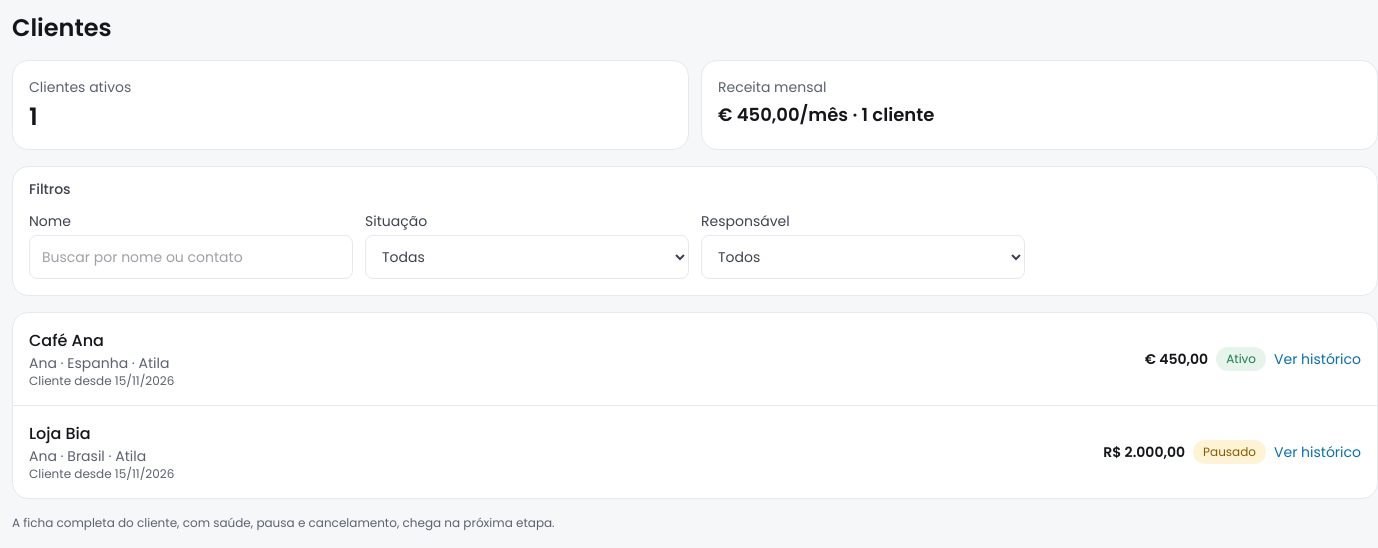
Scenario: clientes › mostra mensalidade com a moeda de cada cliente e filtra por situação
Expected: the text "Café Ana" is shown, top-left (29, 329), bottom-right (104, 352)
Expected: the text "R$ 2.000,00" is shown, top-left (1103, 442), bottom-right (1185, 462)
Select "Pausado" in the dropdown labelled "Situação": [527, 257] box top-left (365, 235), bottom-right (689, 279)
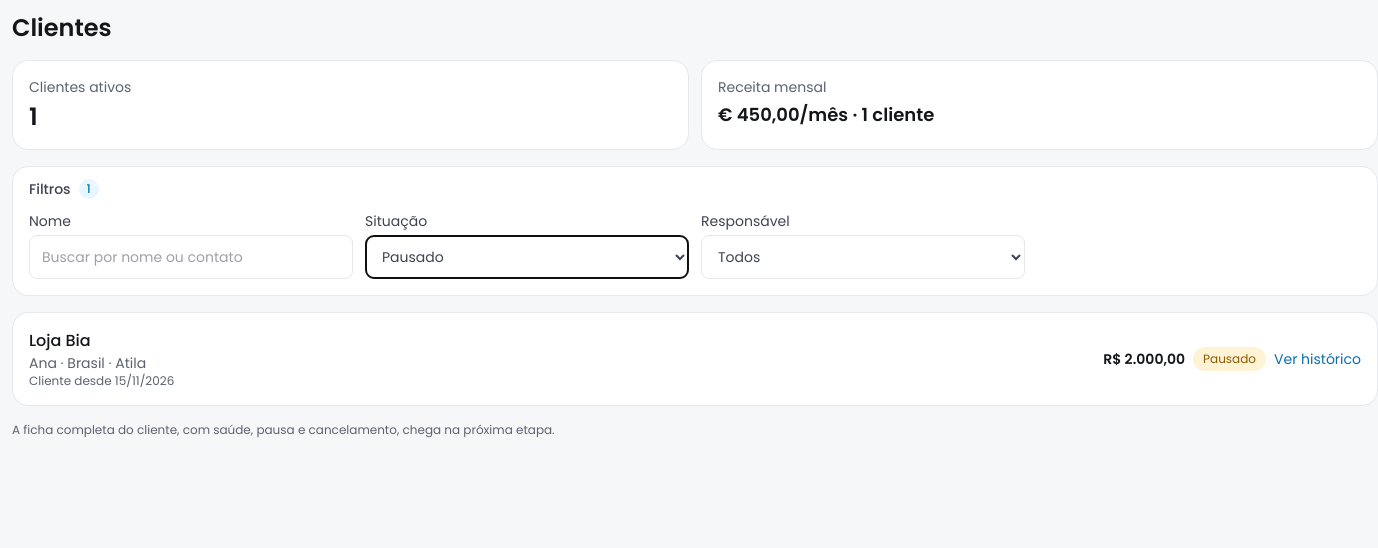
Expected: the text "Loja Bia" is shown, top-left (29, 329), bottom-right (91, 352)
Result: the text "Café Ana" is gone
Select "Todas" in the dropdown labelled "Situação": [527, 257] box top-left (365, 235), bottom-right (689, 279)
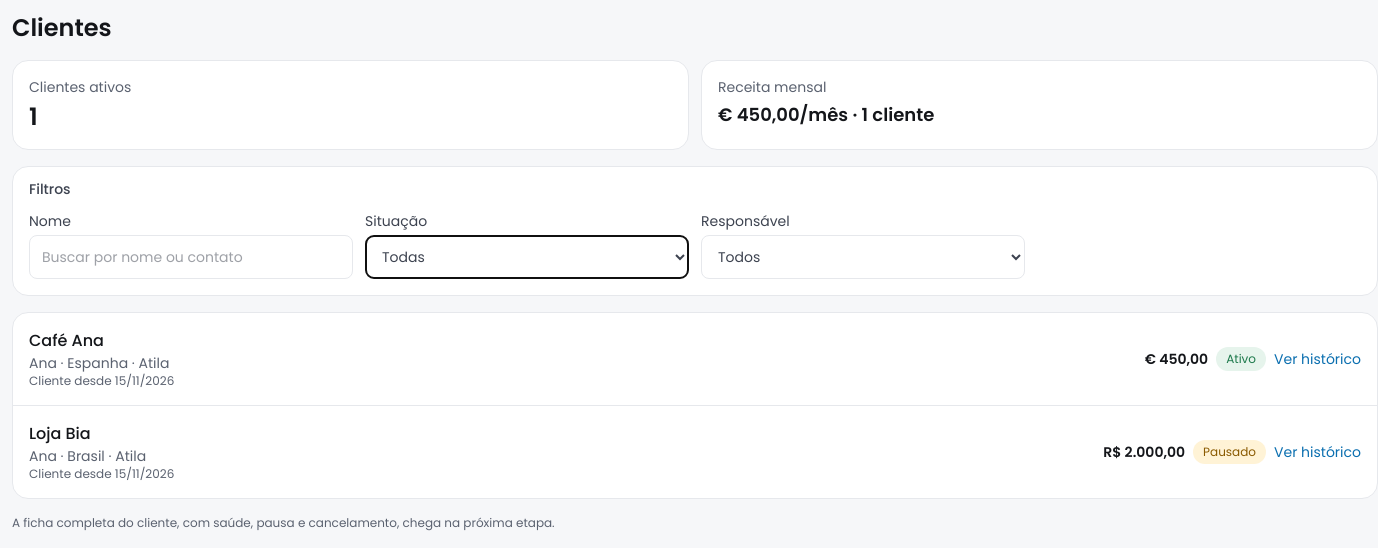
In the search field labelled "Nome": [191, 257] box top-left (29, 235), bottom-right (353, 279), type "cafe"
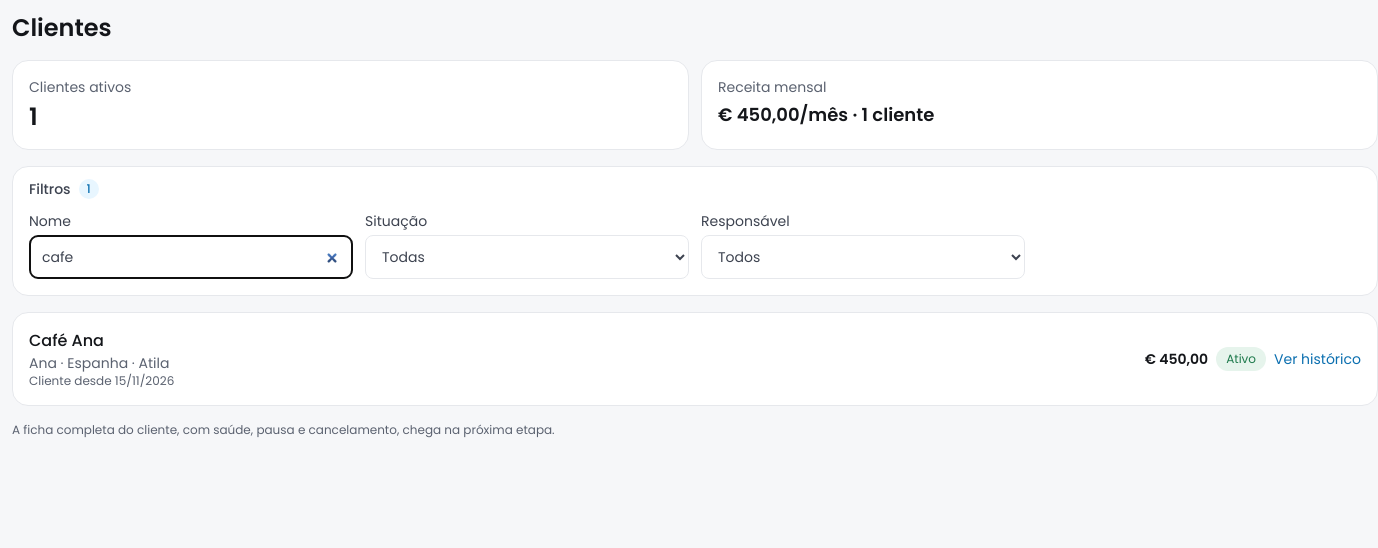
Result: the text "Café Ana" is shown at top-left (29, 329), bottom-right (104, 352)
Result: the text "Loja Bia" is gone
Clear the search field labelled "Nome": [191, 257] box top-left (29, 235), bottom-right (353, 279)
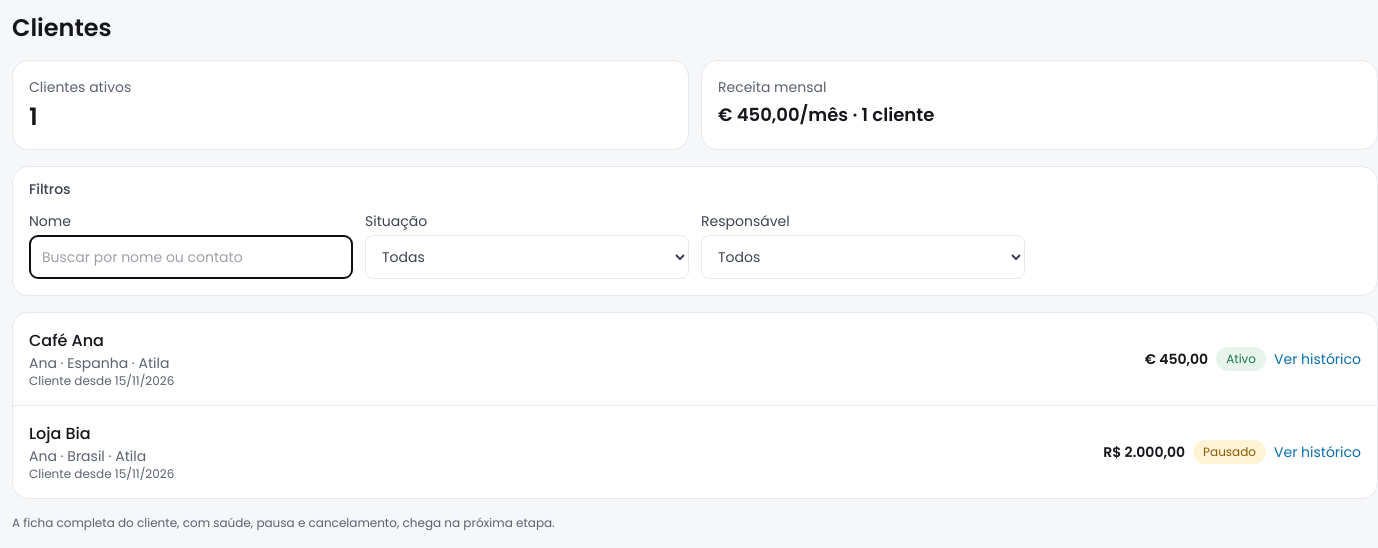
Select "Sem responsável" in the dropdown labelled "Responsável": [863, 257] box top-left (701, 235), bottom-right (1025, 279)
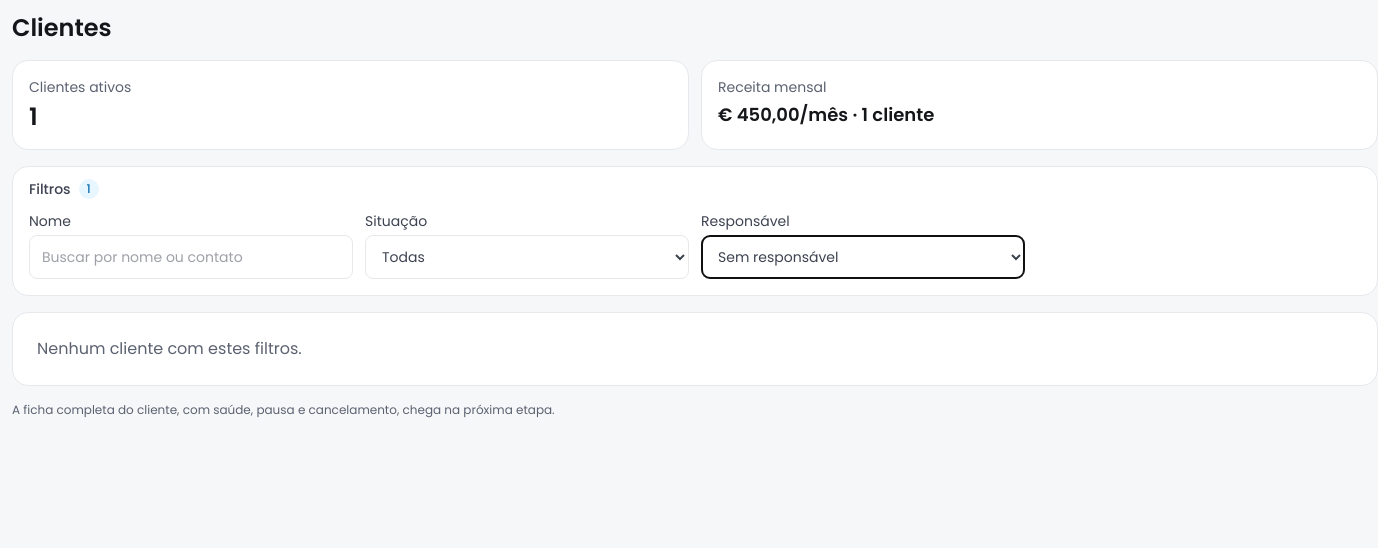
Result: the text "Nenhum cliente com estes filtros." is shown at top-left (12, 312), bottom-right (1377, 386)
